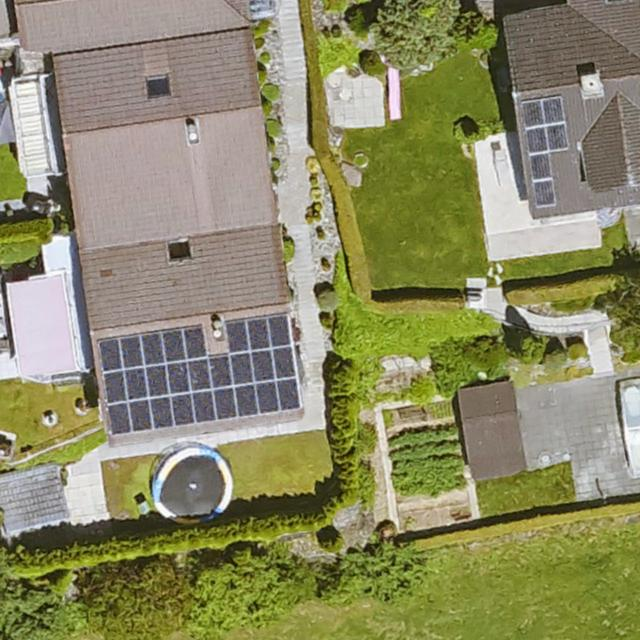tree: (371, 0, 460, 70), (609, 275, 640, 365)
